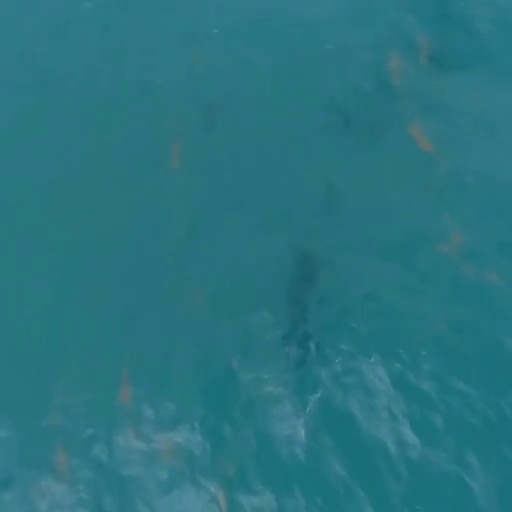shark: (279, 248, 322, 370)
